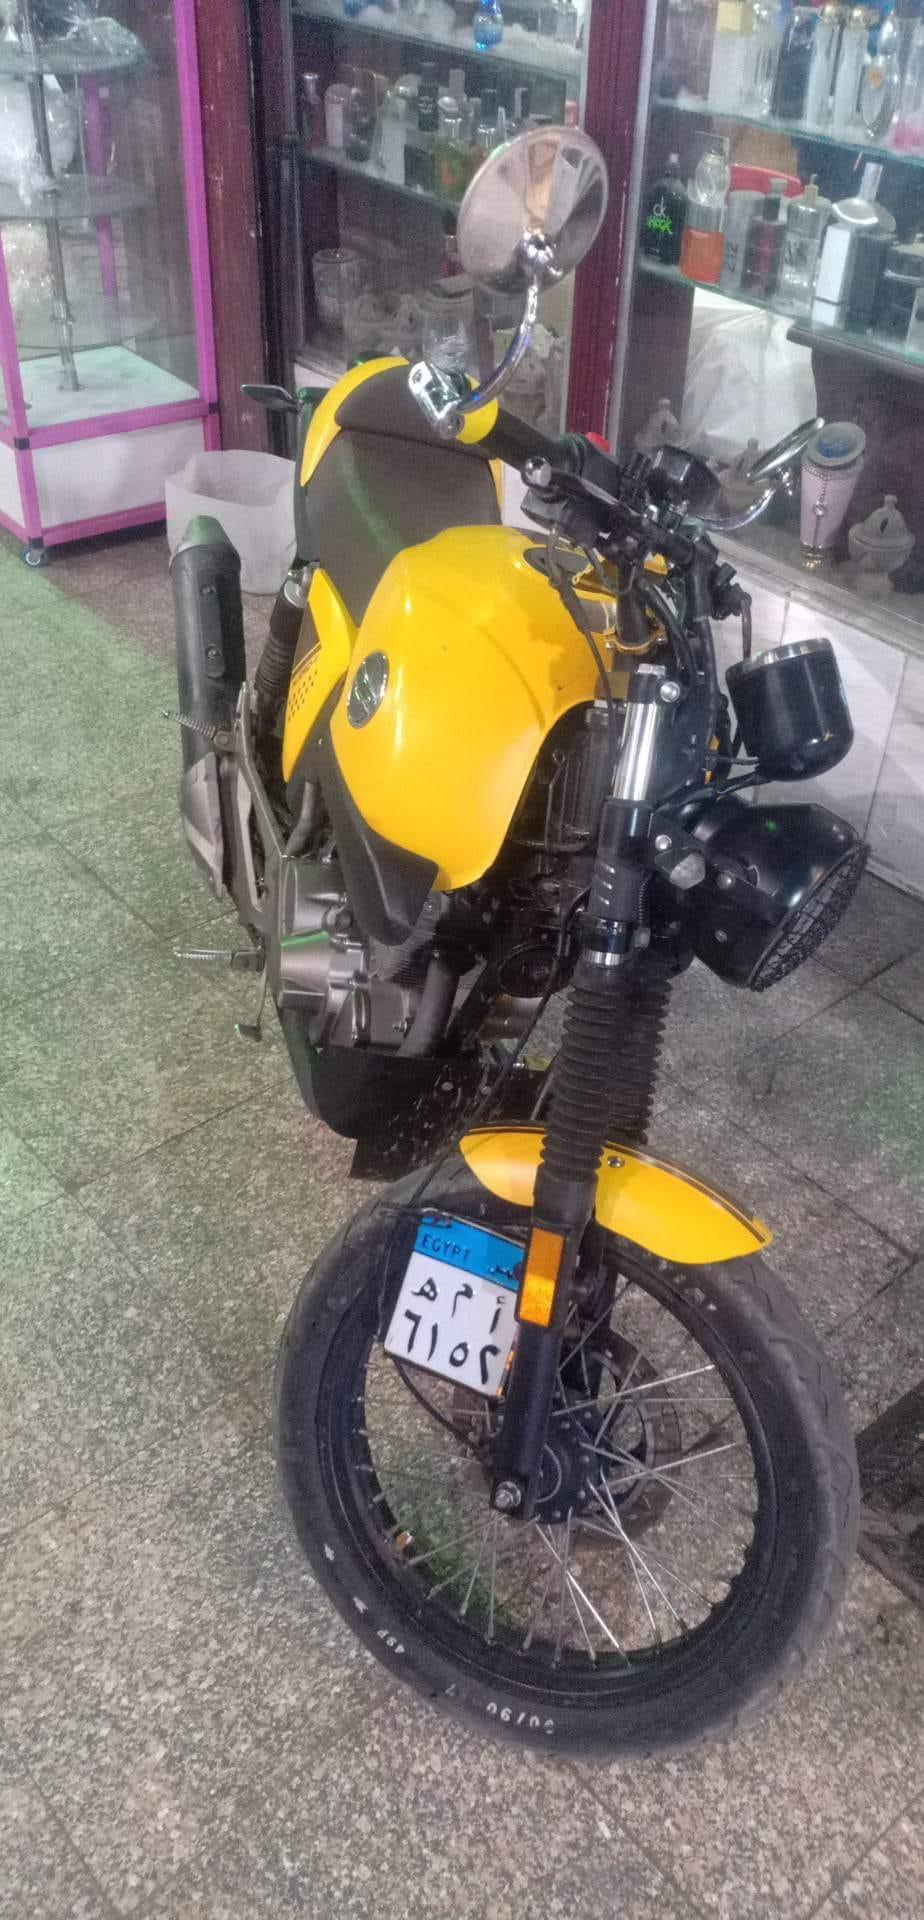License Plate: (383, 1200, 534, 1403)
